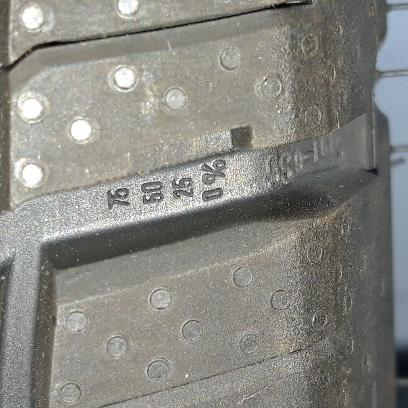temoin:100: (104, 125, 254, 183)
